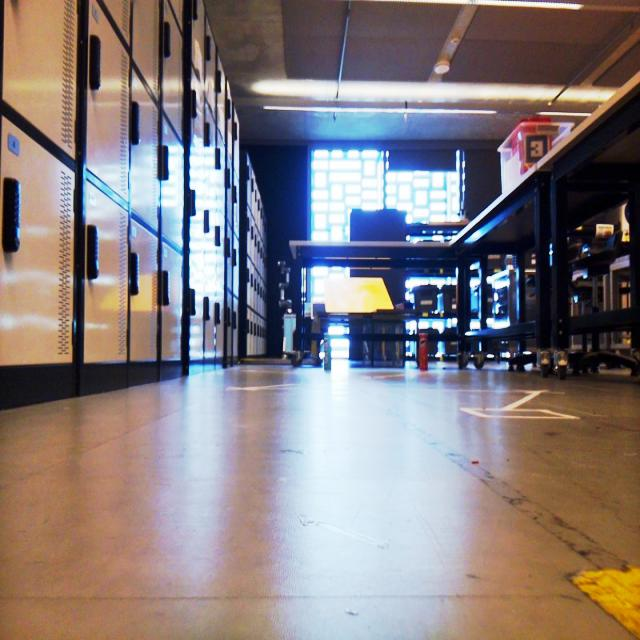greenpringles: (320, 327, 338, 378)
redpringles: (410, 321, 438, 382)
